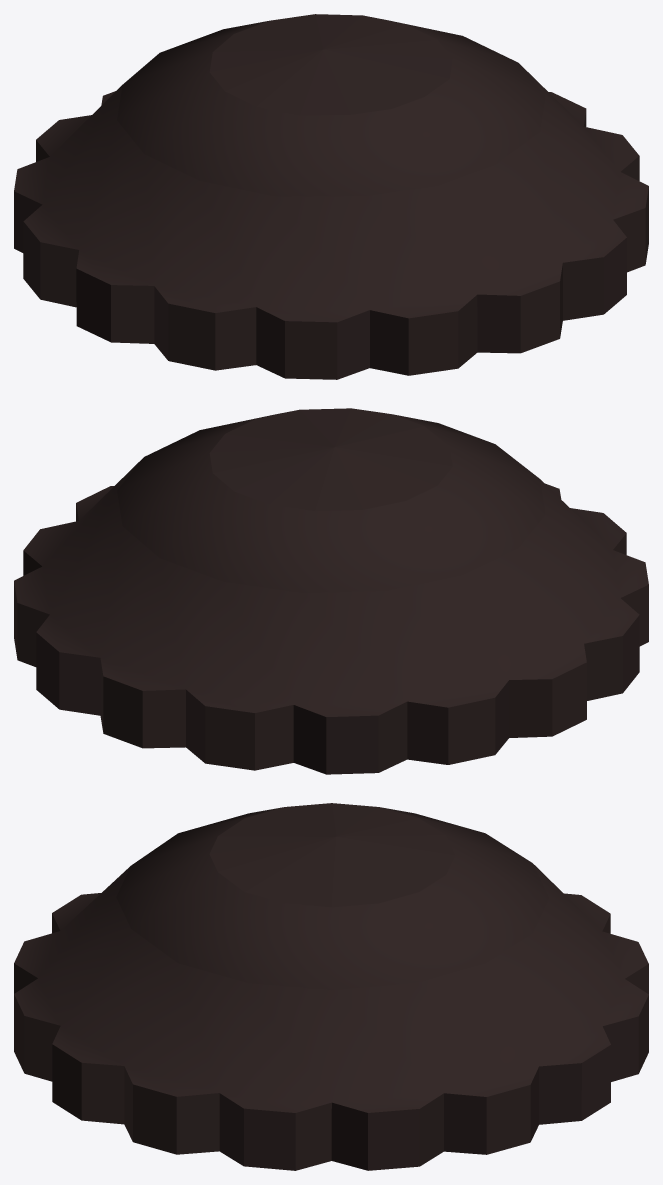
The model's file is Charakter_Thief_cap.FBX.
The picture shows the model from 3 angles, top to bottom: view 1: azimuth 30°, elevation 25°; view 2: azimuth 150°, elevation 25°; view 3: azimuth 270°, elevation 25°; orthographic projection.
Visible parts, largest first — view 1: Charakter_Thief_cap; view 2: Charakter_Thief_cap; view 3: Charakter_Thief_cap.
Boxes of the visible parts, box(x1,y1,x2,y2) form: Charakter_Thief_cap: box(14, 14, 648, 379); Charakter_Thief_cap: box(14, 408, 648, 774); Charakter_Thief_cap: box(14, 803, 648, 1170).
Size of the model in its own units: 152 by 152 by 52.17.
